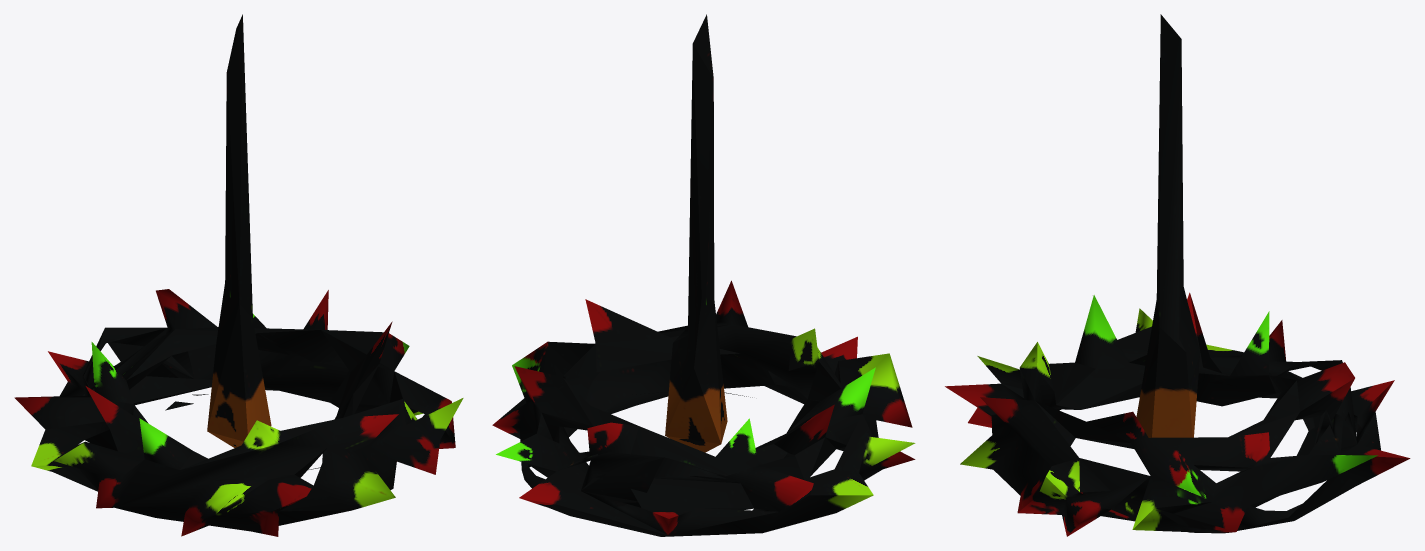
The model's file is christmas-lights.glb.
3 views of the same model, side by side, from view 1: azimuth 30°, elevation 25°; view 2: azimuth 150°, elevation 25°; view 3: azimuth 270°, elevation 25° (orthographic).
Parts seen in each view (by area): view 1: geometry_0.001; view 2: geometry_0.001; view 3: geometry_0.001.
Boxes of the visible parts, <box> form: geometry_0.001: <box>14,14,463,536</box>; geometry_0.001: <box>492,14,915,536</box>; geometry_0.001: <box>945,14,1410,536</box>.
Size of the model in its own units: 0.8609 by 0.9681 by 0.9098.
1 material, 1 textured.
